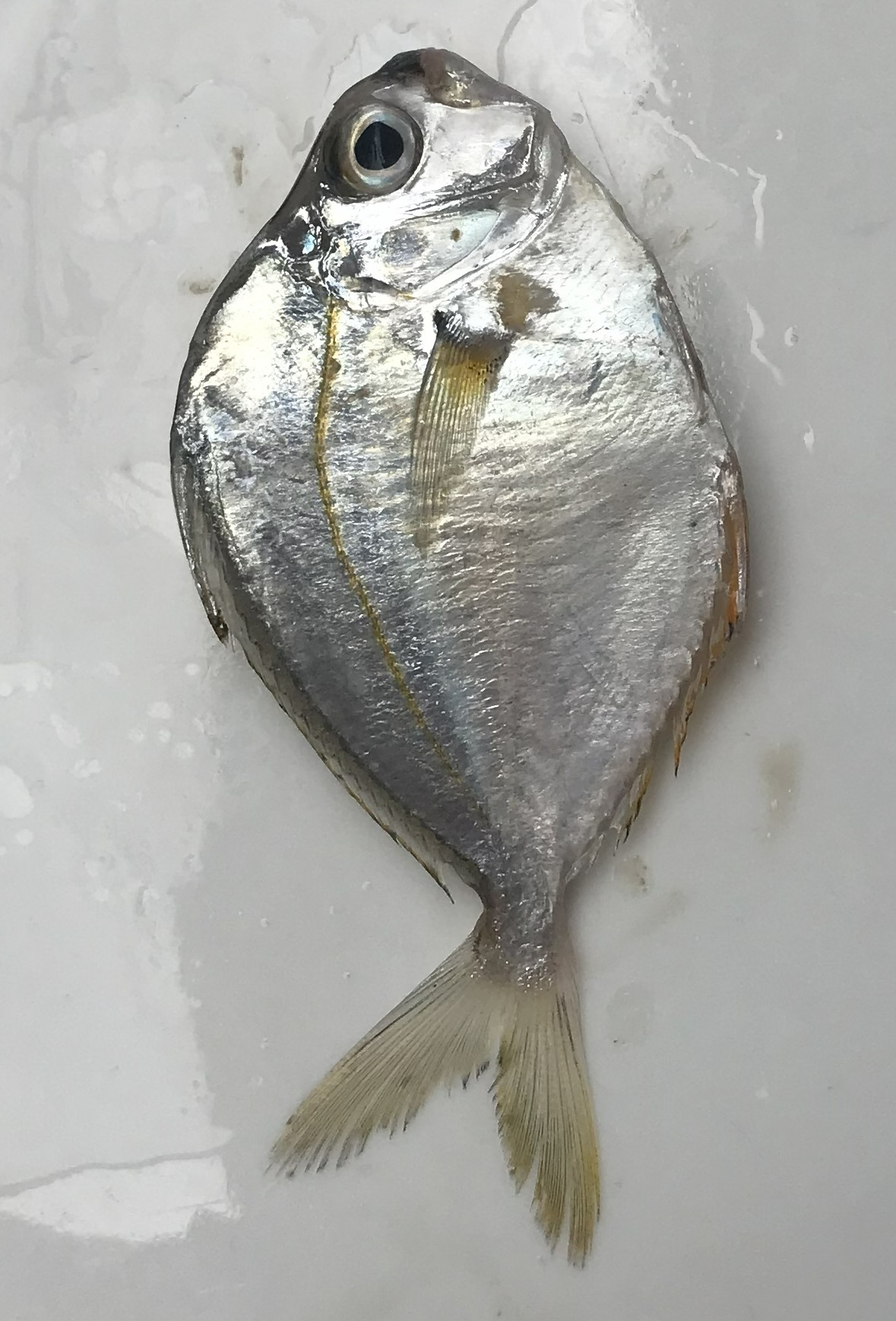sap_sap_not_dried: (169, 48, 787, 1271)
